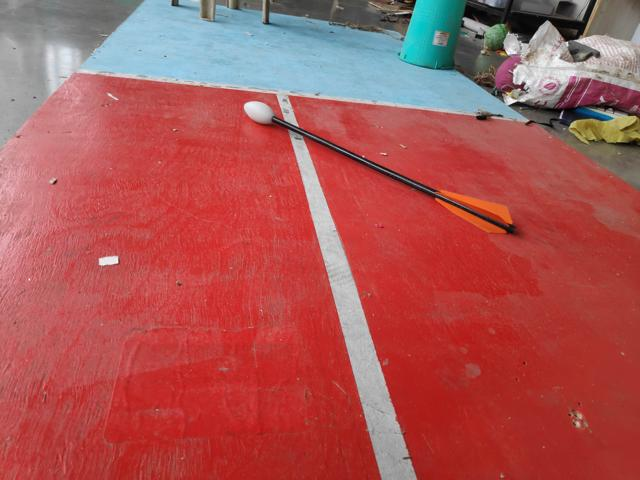Head: (241, 98, 277, 129)
Tail: (428, 188, 519, 237)
